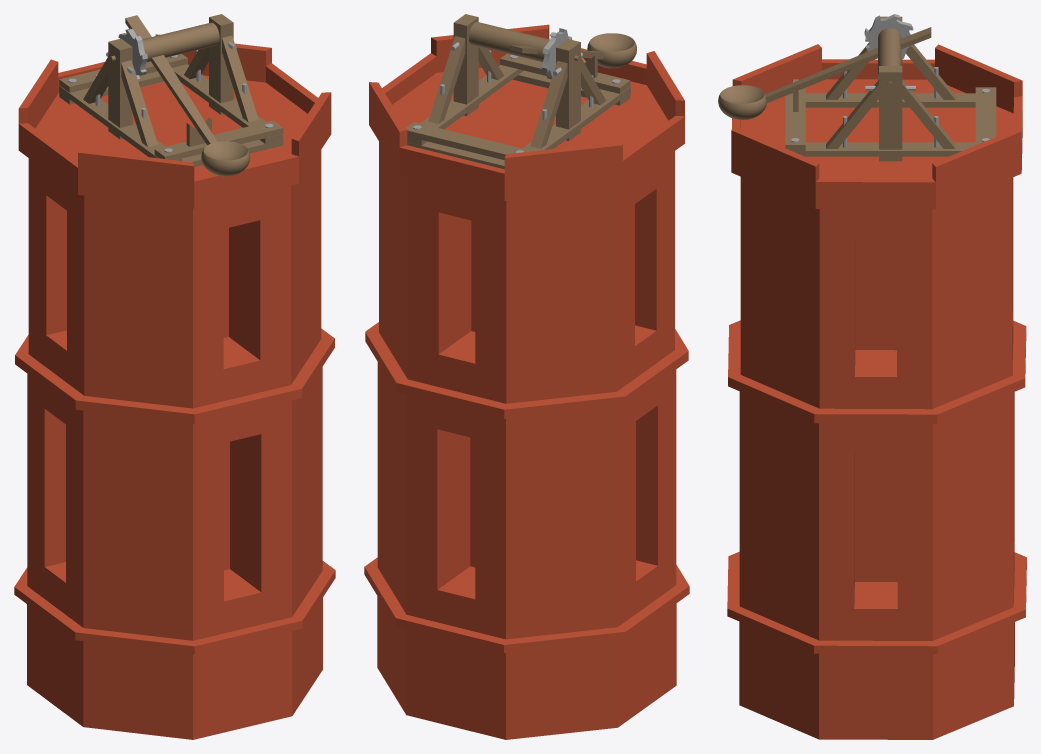
Rendered from Torre con Catapulta.fbx.
3 renders of one model, left to right at view 1: azimuth 30°, elevation 25°; view 2: azimuth 150°, elevation 25°; view 3: azimuth 270°, elevation 25°, orthographic.
Parts seen in each view (by area): view 1: Cylinder, Cuerpo, Brazo; view 2: Cylinder, Cuerpo, Brazo; view 3: Cylinder, Cuerpo, Brazo.
Boxes of the visible parts, x1,y1,x2,y2 form: Cylinder: (14, 34, 335, 739); Cuerpo: (59, 14, 283, 166); Brazo: (109, 15, 250, 176); Cylinder: (364, 24, 689, 739); Cuerpo: (406, 14, 630, 169); Brazo: (469, 22, 636, 79); Cylinder: (727, 44, 1026, 739); Cuerpo: (785, 16, 996, 161); Brazo: (718, 14, 931, 119).
Size of the model in its own units: 1206 by 1169 by 2795.
